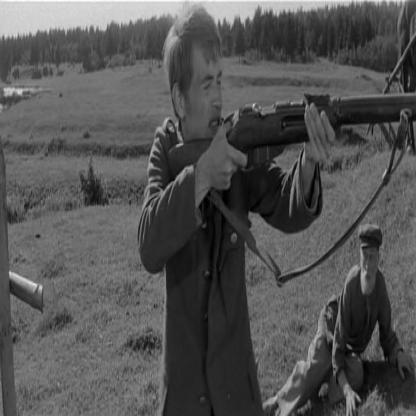gun: (167, 95, 416, 147)
